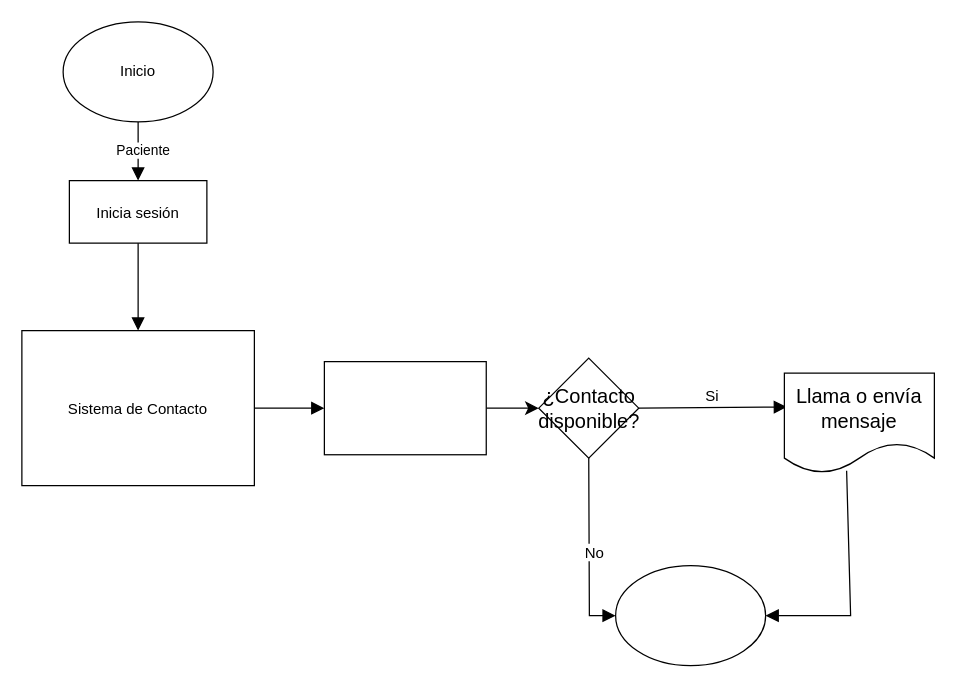
Image size: 956x688. Some labels were removed from this diagram. Here are the shapes that lost their labels. From the top down, the centre of each, then its label:
(404,407): Muestra diferente medios de contactos
(690,615): Fin
